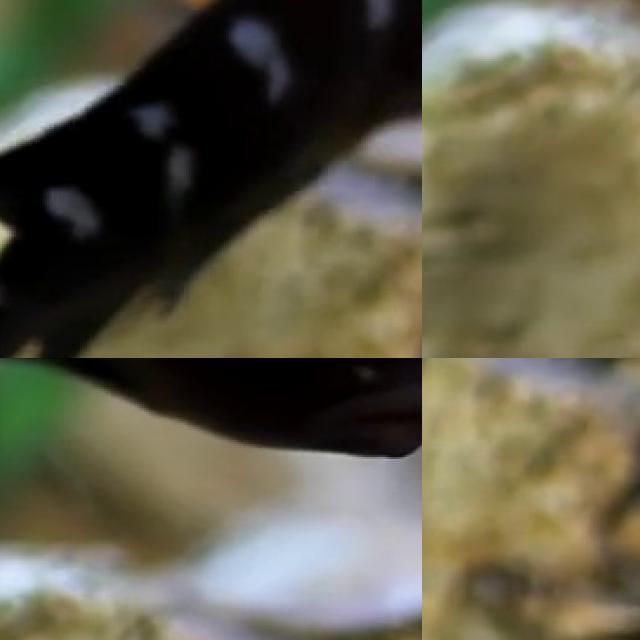fish: (0, 0, 422, 358), (0, 358, 422, 478)
